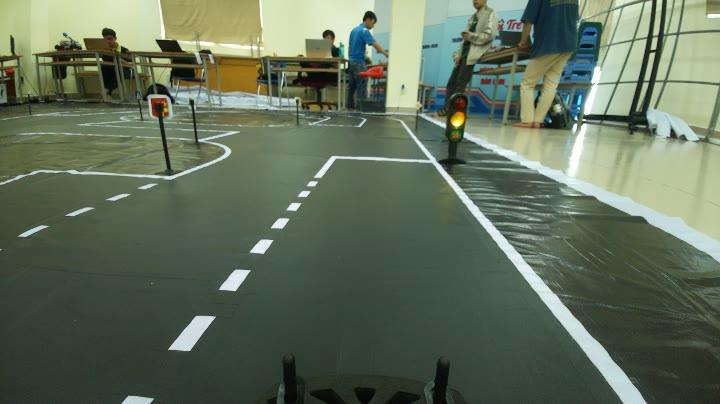trafficlight: (429, 85, 477, 176)
